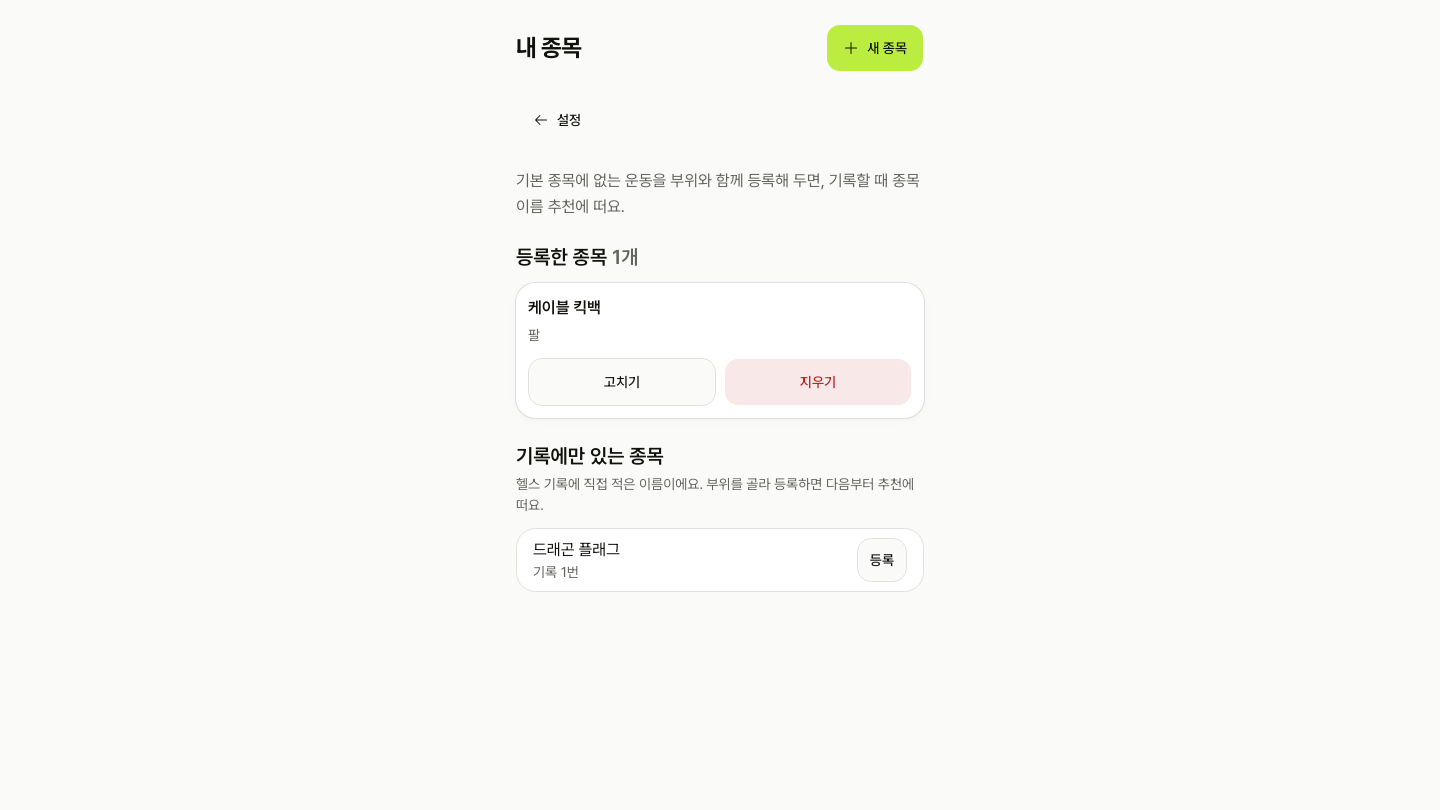
it: 내 종목 관리 › 기록에만 있는 이름은 사전·내 종목을 빼고 보여 주고, 부위만 골라 등록한다
Click the button with aria-label "드래곤 플래그 내 종목으로 등록" at (882, 560), box [857,538,907,582]
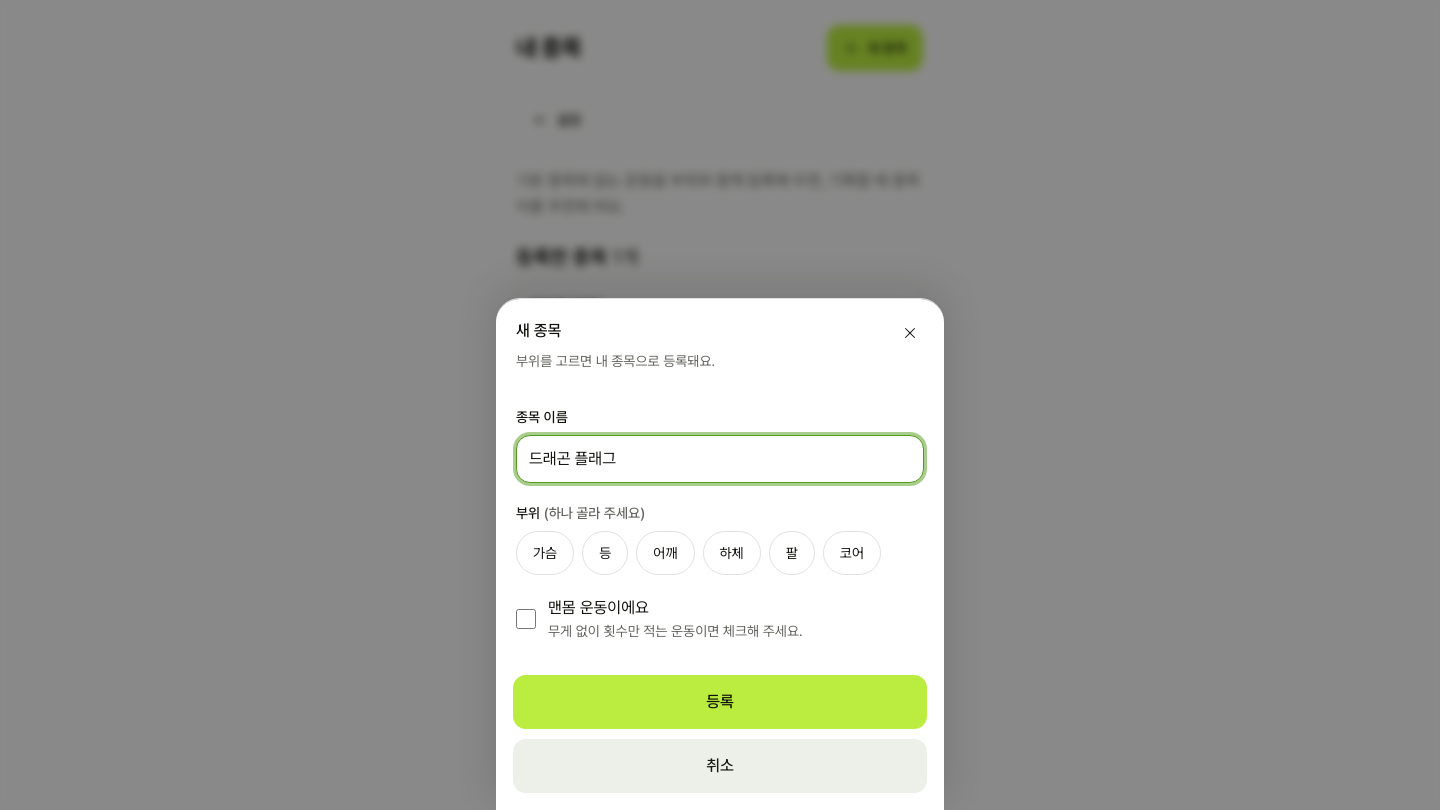
Now the field labelled "종목 이름" holds "드래곤 플래그", box [516,435,924,483]
Click the button "코어" at (852, 553), box [823,531,881,575]
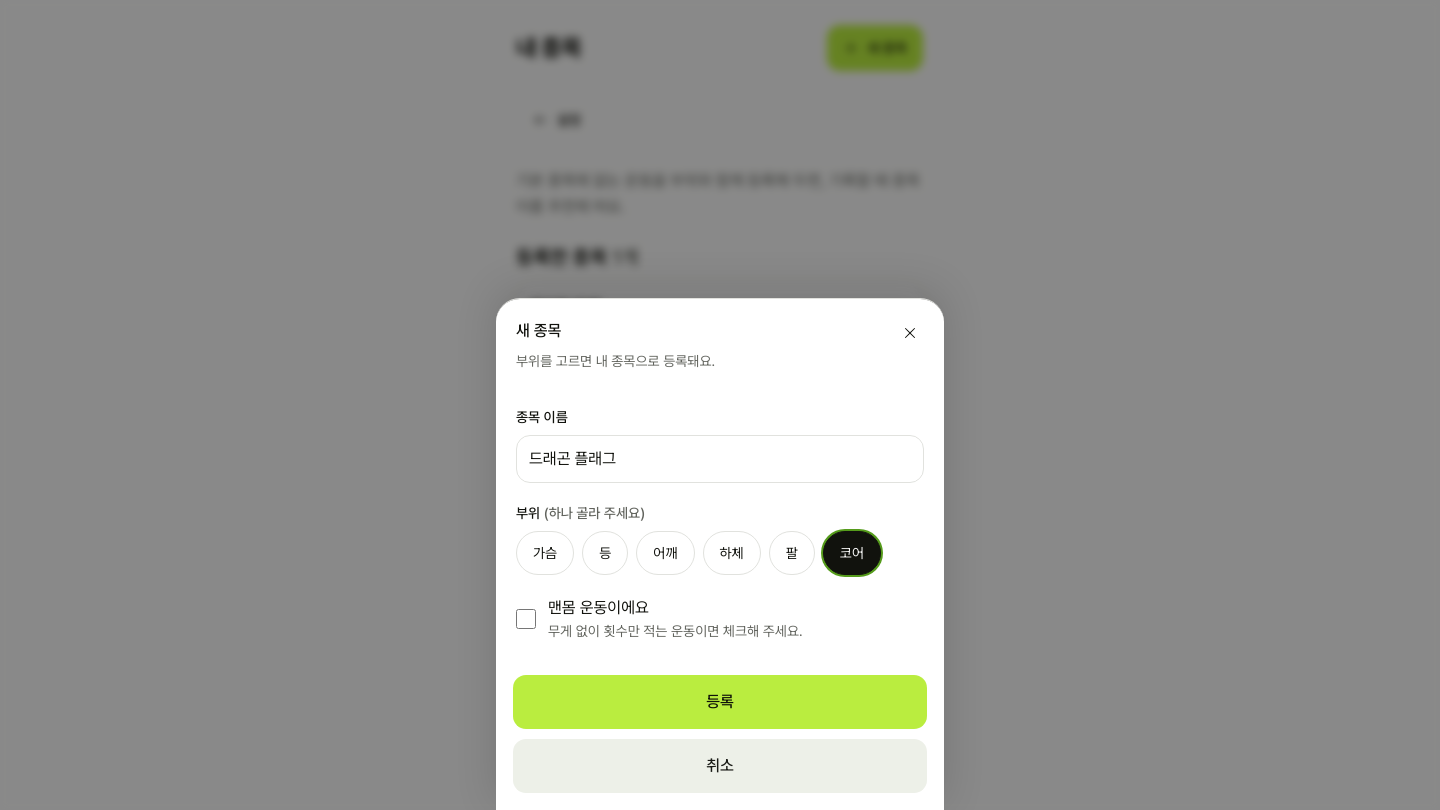
Click the button "등록" at (720, 702), box [512,674,928,730]
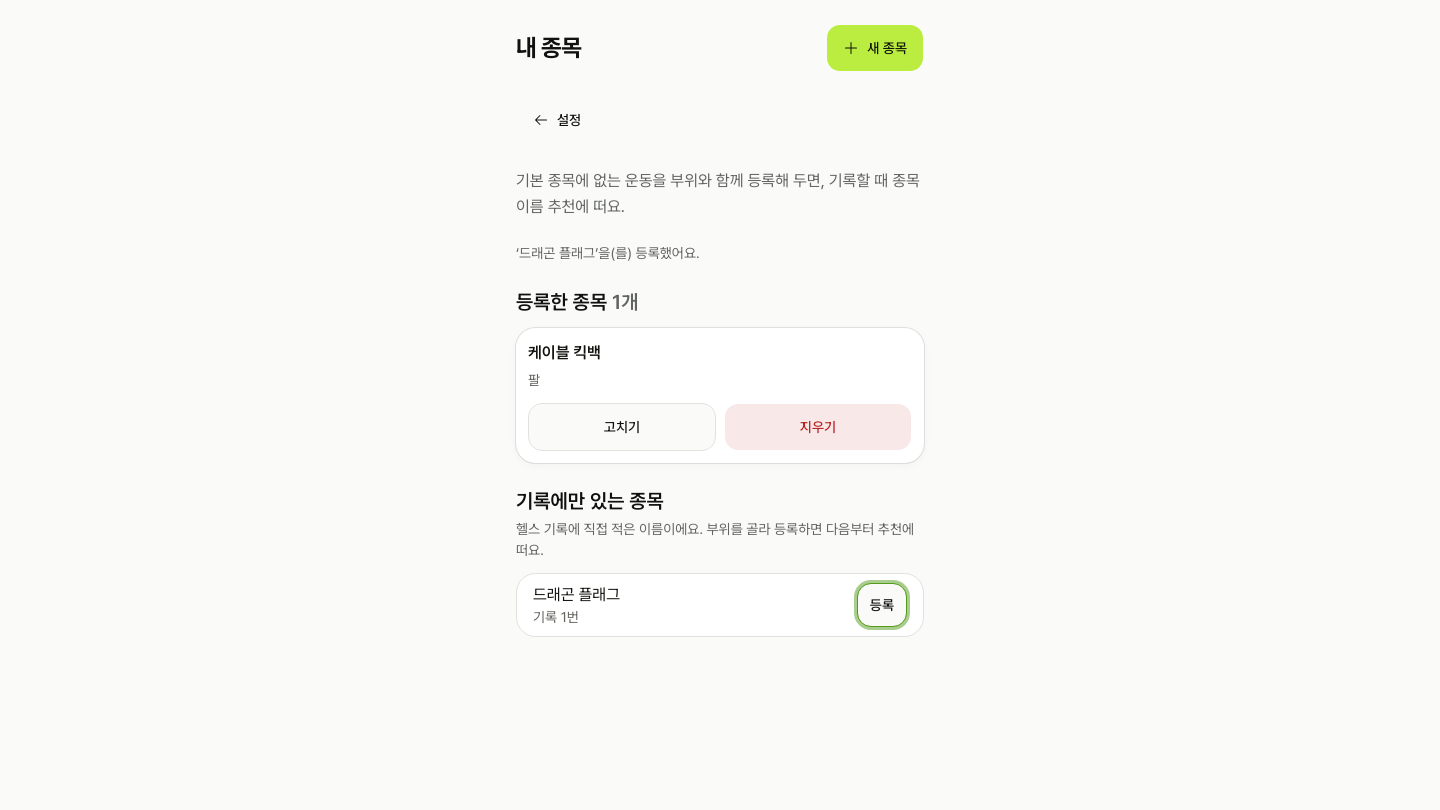
Now the dialog is gone
Now the text "‘드래곤 플래그’을(를) 등록했어요." is shown, box [516,245,700,261]
